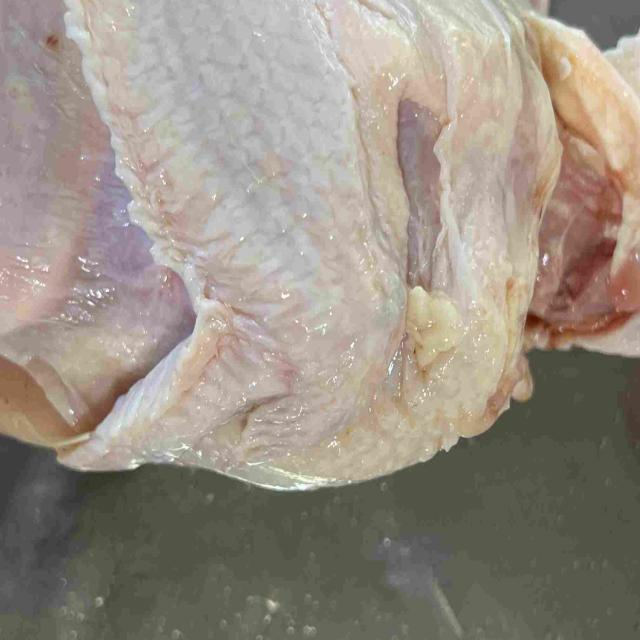wing: (56, 0, 383, 484)
